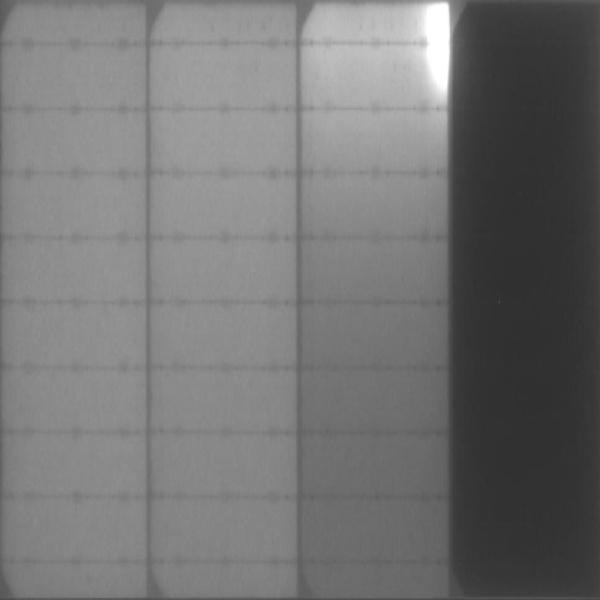hot_spot: (424, 1, 449, 96)
no_electricity: (450, 1, 597, 596)
